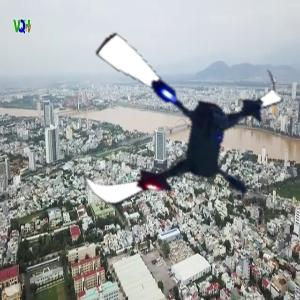drone: (61, 21, 285, 245)
